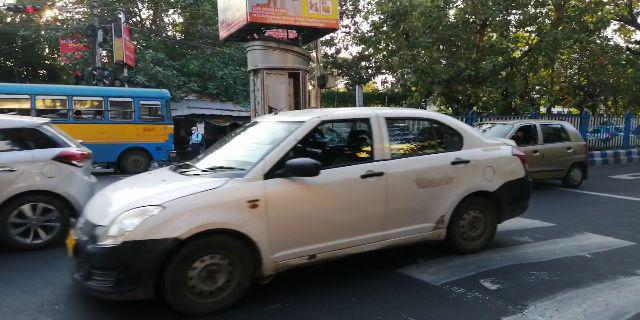Bus: (1, 82, 179, 166)
Car: (60, 100, 527, 307), (1, 112, 94, 240), (475, 118, 595, 195)
